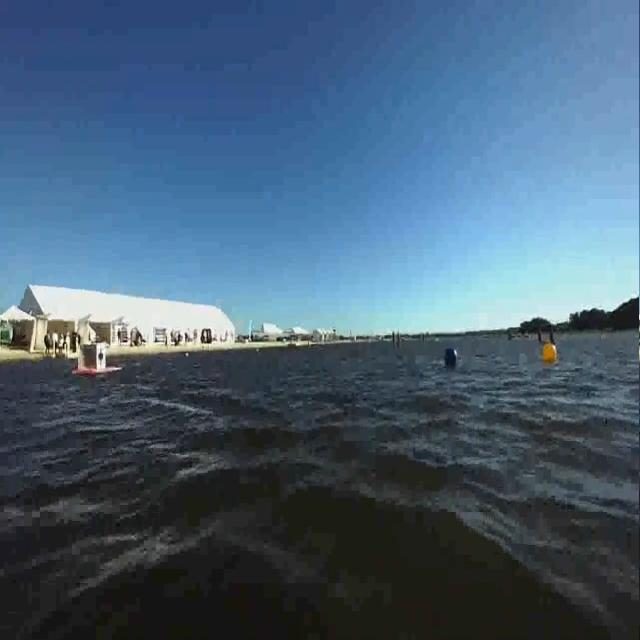blue-buoy: (442, 345, 456, 369)
yellow-buoy: (544, 340, 559, 365)
